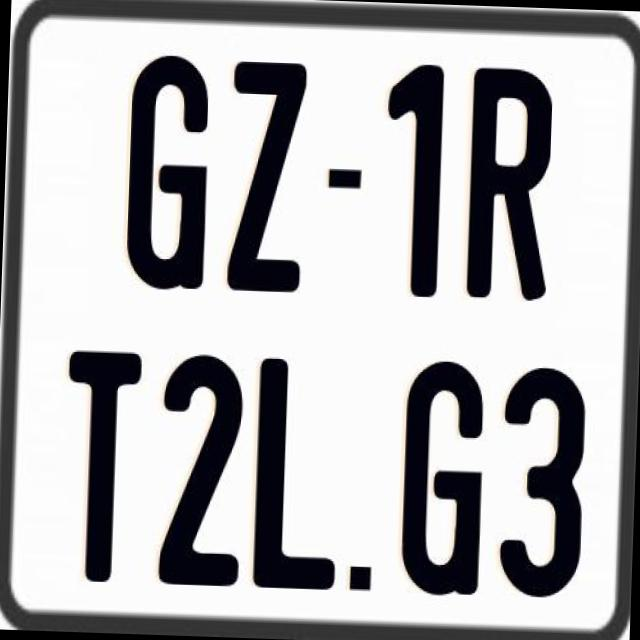1: (380, 58, 450, 292)
2: (153, 352, 241, 590)
3: (496, 362, 584, 603)
G: (398, 356, 486, 600), (124, 52, 210, 290)
L: (248, 353, 340, 589)
R: (462, 66, 550, 299)
T: (60, 346, 147, 581)
Z: (226, 60, 309, 296)
